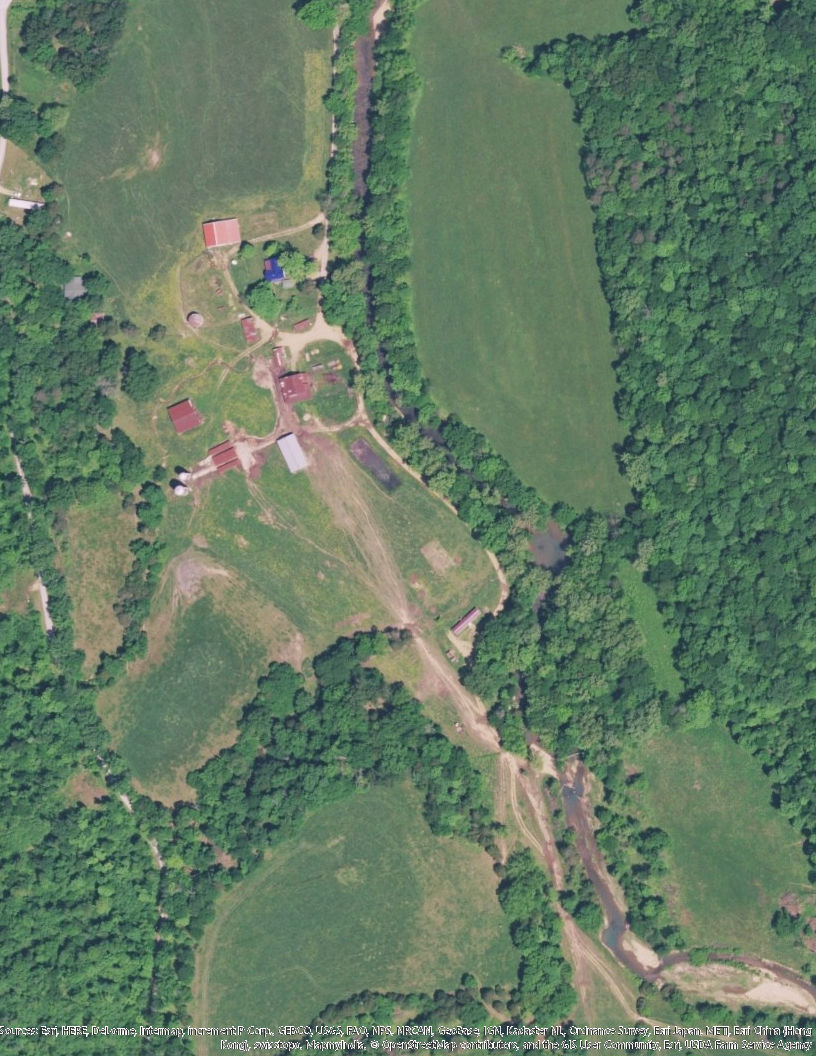cafo: (167, 399, 208, 441), (276, 431, 313, 474), (207, 437, 242, 476), (279, 366, 315, 403), (242, 318, 265, 345)
